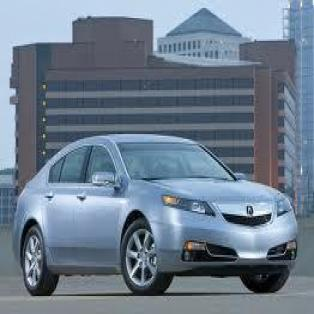Auto: (8, 129, 298, 299)
